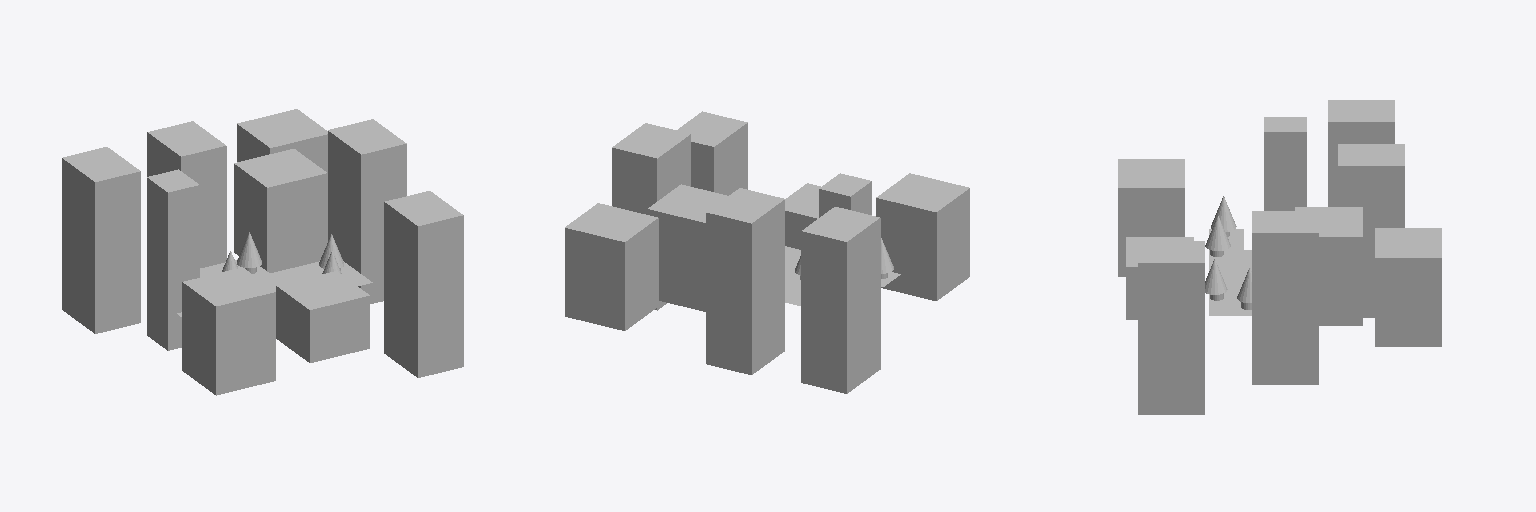
File: city.obj
3 renders of one model, left to right at view 1: azimuth 30°, elevation 25°; view 2: azimuth 150°, elevation 25°; view 3: azimuth 270°, elevation 25°, orthographic.
Visible parts, largest first — view 1: pCube1, pasted__pasted__pCube1 pasted__group4 group7, pasted__pCube1 group3, pasted__pasted__pCube1 pasted__group4 group8, pasted__pasted__pCube1 pasted__group3 group6, pasted__pCube1 group2, pasted__pCube1 group1, pasted__pCube1 group4, pasted__pasted__pCube1 pasted__group3 group5, pPlane1; view 2: pasted__pasted__pCube1 pasted__group4 group7, pasted__pCube1 group4, pasted__pasted__pCube1 pasted__group3 group5, pasted__pCube1 group3, pasted__pasted__pCube1 pasted__group3 group6, pasted__pasted__pCube1 pasted__group4 group8, pCube1, pasted__pCube1 group2, pasted__pCube1 group1, pPlane1; view 3: pCube1, pasted__pasted__pCube1 pasted__group4 group8, pasted__pasted__pCube1 pasted__group3 group5, pasted__pCube1 group4, pasted__pCube1 group3, pasted__pasted__pCube1 pasted__group3 group6, pasted__pCube1 group2, pasted__pasted__pCube1 pasted__group4 group7, pPlane1, pasted__pCube1 group1.
Boxes of the visible parts, box(x1,y1,x2,y2) form: pCube1: box(384, 191, 463, 377); pasted__pasted__pCube1 pasted__group4 group7: box(62, 147, 140, 333); pasted__pCube1 group3: box(182, 267, 275, 395); pasted__pasted__pCube1 pasted__group4 group8: box(328, 119, 406, 303); pasted__pasted__pCube1 pasted__group3 group6: box(234, 149, 327, 272); pasted__pCube1 group2: box(147, 169, 199, 350); pasted__pCube1 group1: box(276, 271, 369, 362); pasted__pCube1 group4: box(147, 121, 226, 267); pasted__pasted__pCube1 pasted__group3 group5: box(237, 109, 327, 172); pPlane1: box(177, 259, 372, 316); pasted__pasted__pCube1 pasted__group4 group7: box(801, 207, 880, 393); pasted__pCube1 group4: box(706, 188, 784, 374); pasted__pasted__pCube1 pasted__group3 group5: box(565, 203, 658, 330); pasted__pCube1 group3: box(876, 173, 969, 300); pasted__pasted__pCube1 pasted__group3 group6: box(647, 184, 727, 311); pasted__pasted__pCube1 pasted__group4 group8: box(612, 123, 690, 310); pCube1: box(677, 111, 747, 195); pasted__pCube1 group2: box(819, 173, 871, 217); pasted__pCube1 group1: box(785, 183, 820, 249); pPlane1: box(785, 246, 900, 305); pCube1: box(1138, 241, 1204, 414); pasted__pasted__pCube1 pasted__group4 group8: box(1252, 211, 1318, 384); pasted__pasted__pCube1 pasted__group3 group5: box(1375, 228, 1441, 346); pasted__pCube1 group4: box(1338, 144, 1404, 317); pasted__pCube1 group3: box(1118, 159, 1184, 276); pasted__pasted__pCube1 pasted__group3 group6: box(1295, 207, 1362, 325); pasted__pCube1 group2: box(1264, 117, 1306, 210); pasted__pasted__pCube1 pasted__group4 group7: box(1328, 100, 1394, 206); pPlane1: box(1209, 229, 1251, 315); pasted__pCube1 group1: box(1126, 237, 1193, 319).
Size of the model in its own units: 0.2586 by 0.1674 by 0.2658.